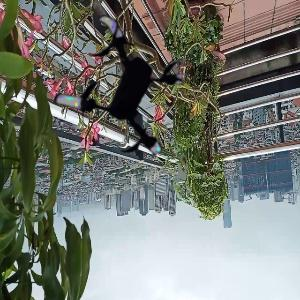drone: (41, 12, 194, 165)
